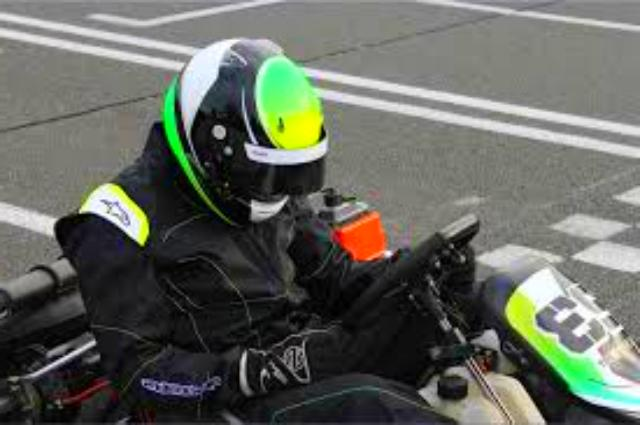helm: (157, 39, 337, 234)
motor: (1, 206, 640, 425)
